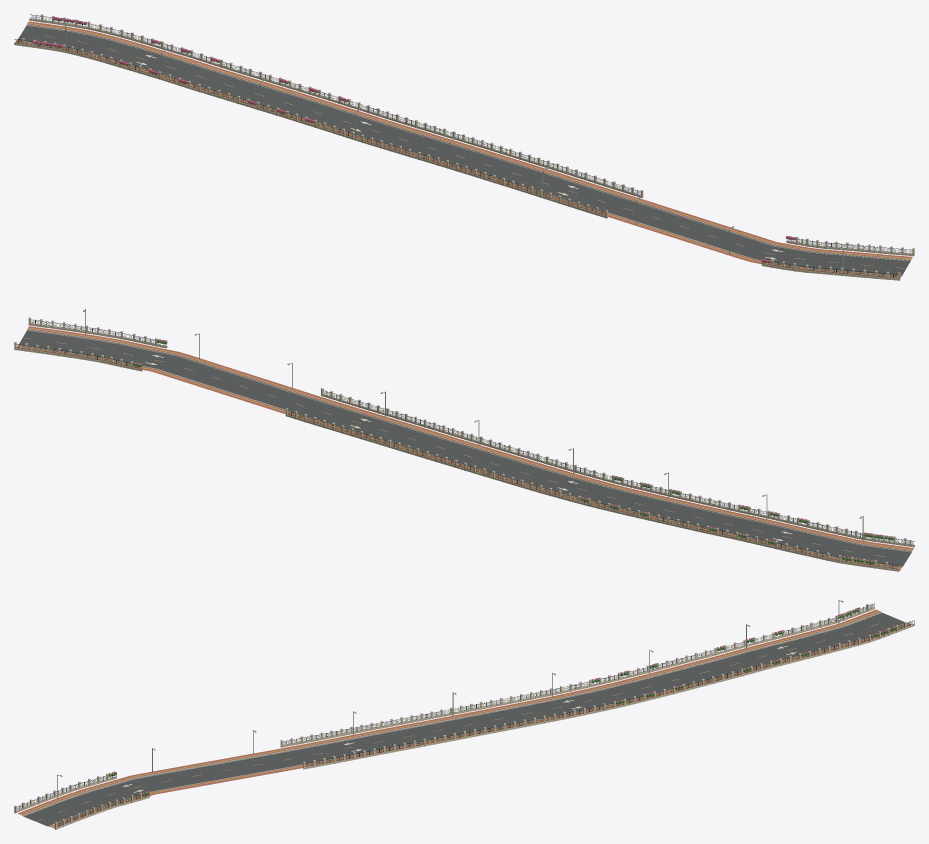
The model's file is infra-road-03.glb.
The picture shows the model from 3 angles, top to bottom: view 1: azimuth 30°, elevation 25°; view 2: azimuth 210°, elevation 25°; view 3: azimuth 270°, elevation 25°; orthographic projection. The views are drawn at different scales.
Parts seen in each view (by area): view 1: infra-road-03; view 2: infra-road-03; view 3: infra-road-03.
Boxes of the visible parts, <box> form: infra-road-03: <box>14,14,914,280</box>; infra-road-03: <box>14,309,914,571</box>; infra-road-03: <box>14,600,914,829</box>.
Size of the model in its own units: 139 by 10.75 by 247.
Materials: 12 (1 with a texture image).
